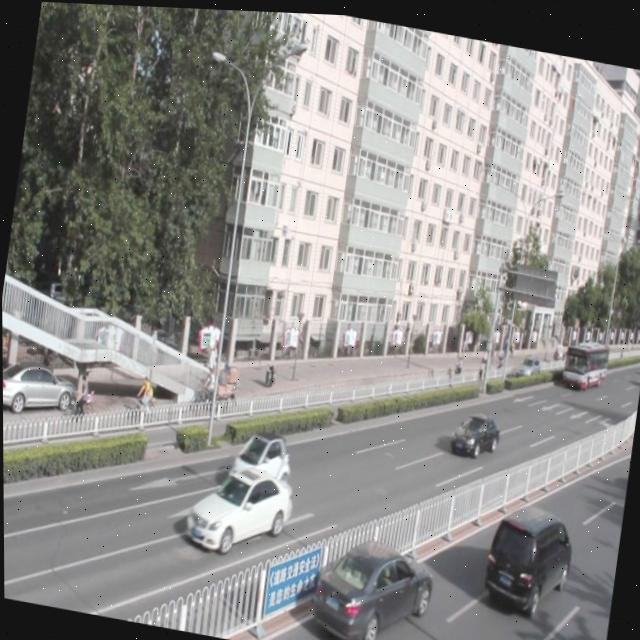car: (308, 526, 436, 640), (180, 452, 295, 559), (479, 492, 576, 615), (223, 420, 294, 496), (446, 401, 501, 458)
